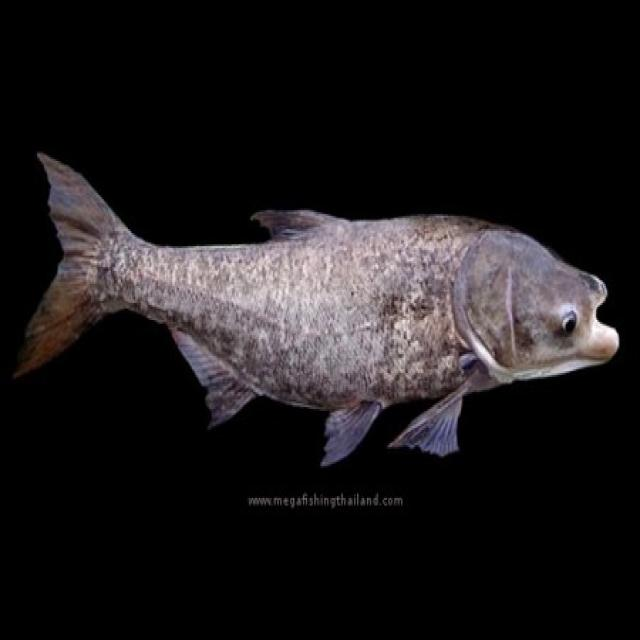Big-Head-Carp: (27, 63, 622, 568)
